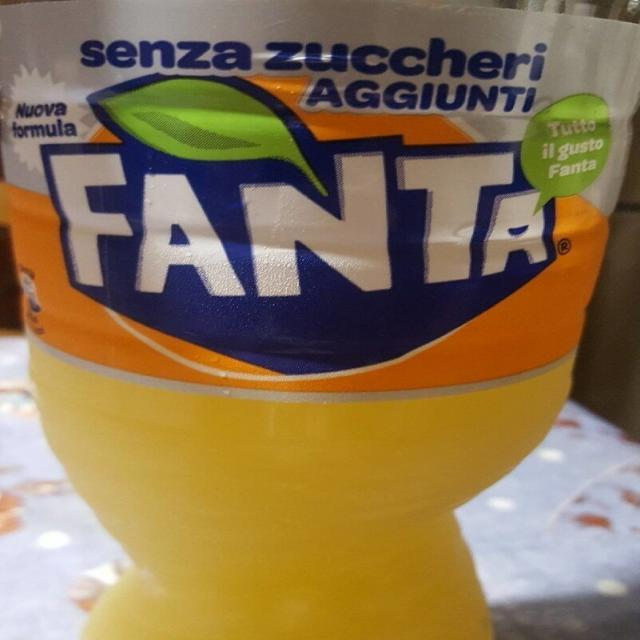Fanta: (5, 3, 640, 640)
